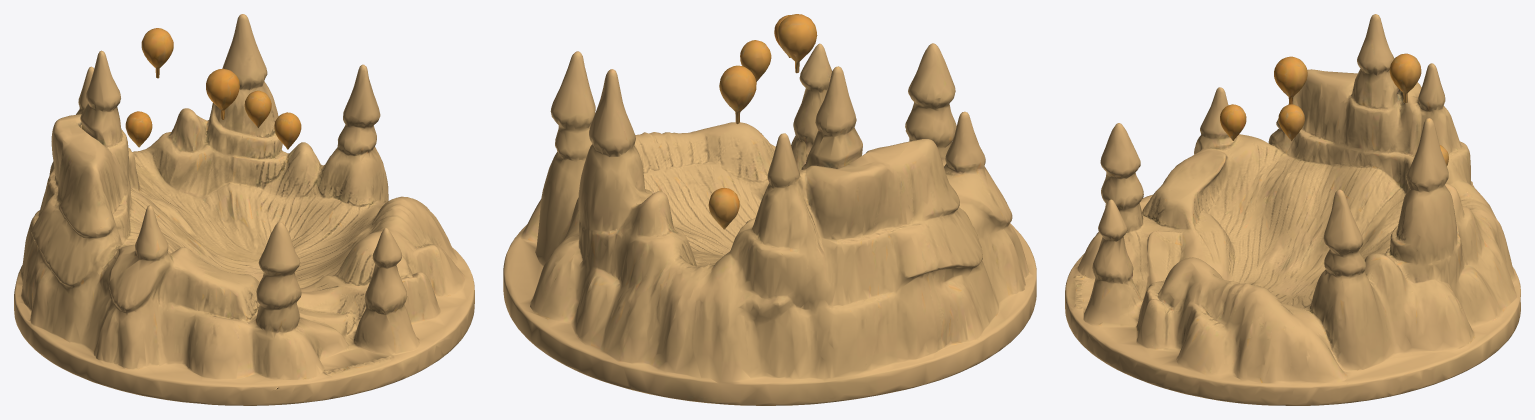
File: cappadocia.glb
3 renders of one model, left to right at view 1: azimuth 30°, elevation 25°; view 2: azimuth 150°, elevation 25°; view 3: azimuth 270°, elevation 25°, orthographic. The views are drawn at different scales.
Parts seen in each view (by area): view 1: Mesh_0; view 2: Mesh_0; view 3: Mesh_0.
Boxes of the visible parts, x1=… form: Mesh_0: x1=14, y1=14, x2=474, y2=405; Mesh_0: x1=503, y1=14, x2=1036, y2=405; Mesh_0: x1=1065, y1=14, x2=1520, y2=405.
Size of the model in its own units: 1.9 by 1.14 by 1.9.
Materials: 1 (1 with a texture image).
